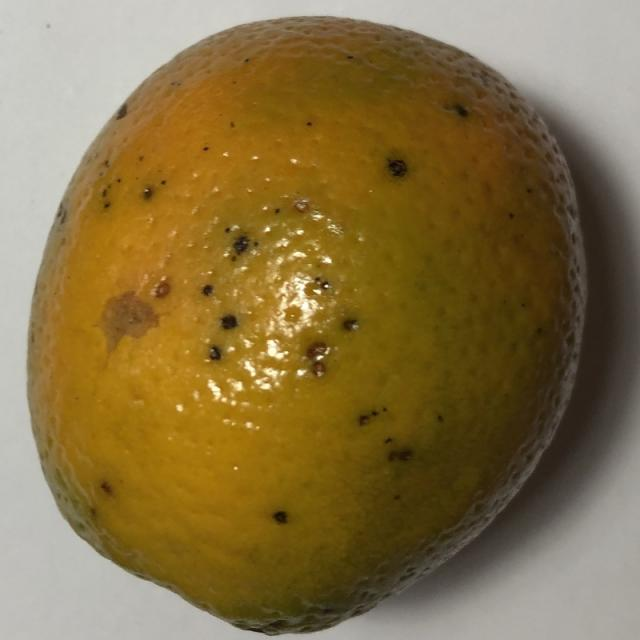blackspot: (24, 14, 598, 636)
